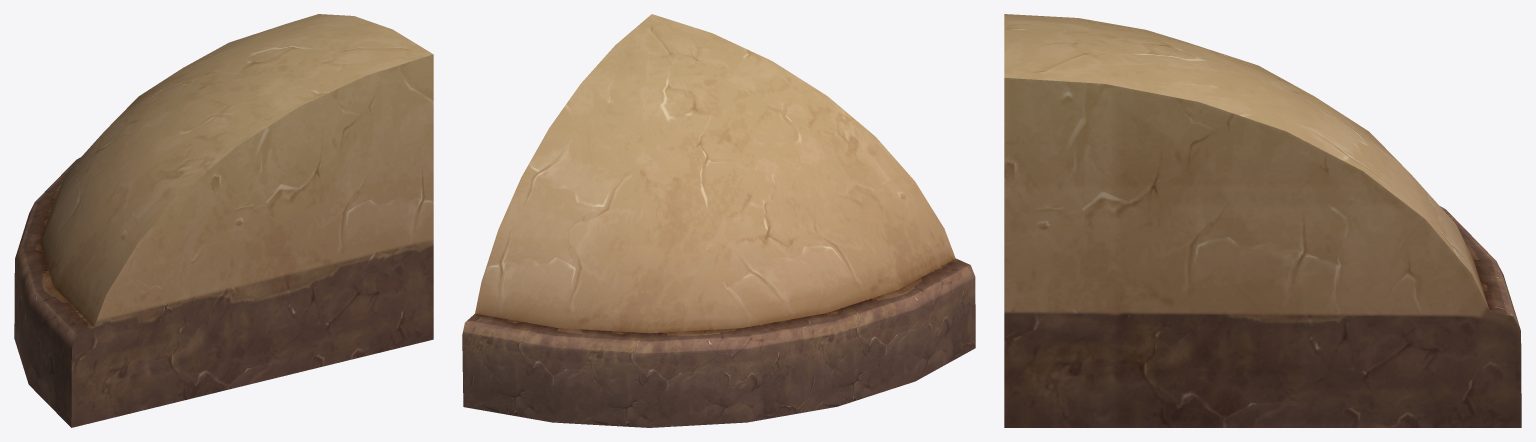
The model's file is DE_House_Mod_Part_40.fbx.
The picture shows the model from 3 angles, left to right: view 1: azimuth 30°, elevation 25°; view 2: azimuth 150°, elevation 25°; view 3: azimuth 270°, elevation 25°; orthographic projection. The views are drawn at different scales.
Parts seen in each view (by area): view 1: DE_House_Mod_Part_40; view 2: DE_House_Mod_Part_40; view 3: DE_House_Mod_Part_40.
Boxes of the visible parts, <box> form: DE_House_Mod_Part_40: <box>14,14,433,427</box>; DE_House_Mod_Part_40: <box>462,14,975,427</box>; DE_House_Mod_Part_40: <box>1004,14,1521,427</box>.
Bounding box in the file's own units: 3.1 × 2.32 × 3.11.
